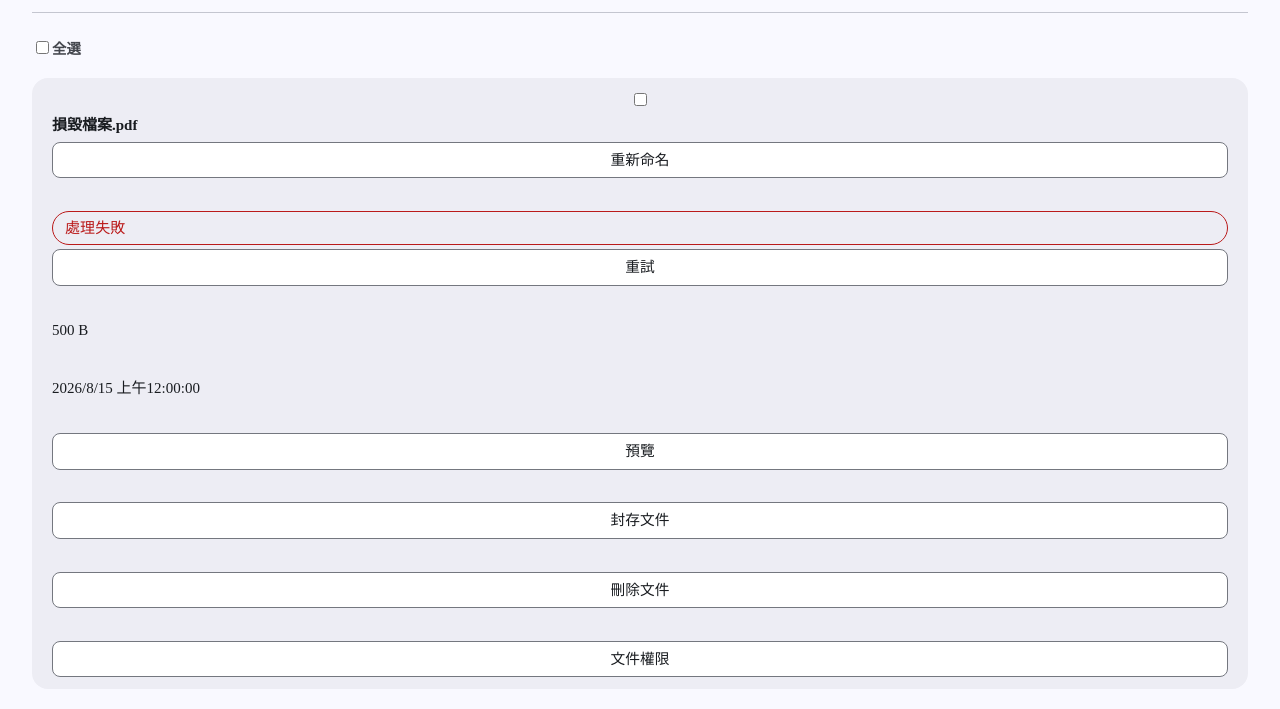
Scenario: KnowledgeDocumentList — retry processing action (E05-S021) › a successful retry refreshes the list, clearing 處理失敗 and its 重試 button once the document is ready
(page scrolled)
Expected: the text "處理失敗" is shown, [52,211,1228,246]
Click the button "重試": (640, 268) [52,249,1228,286]
(page scrolled)
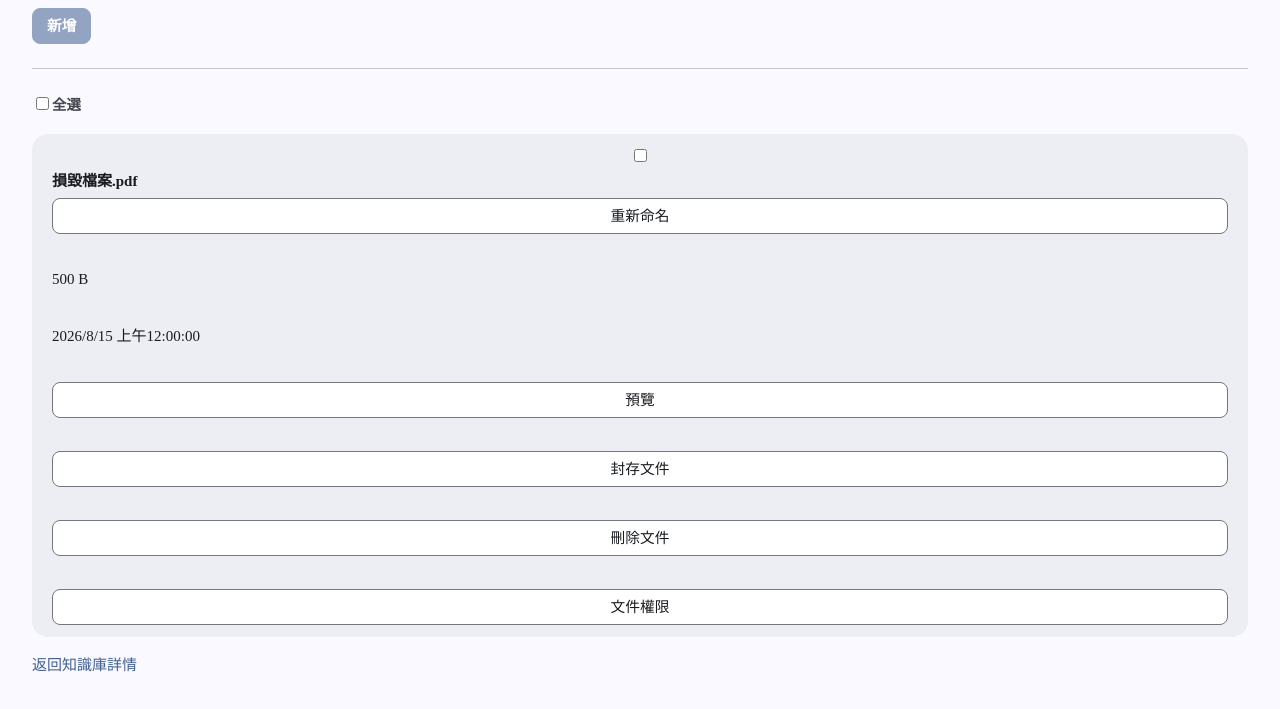
Result: the text "處理失敗" is gone
Result: the button "重試" is gone
